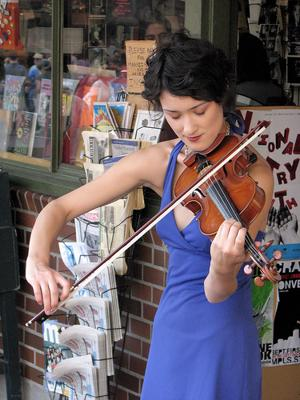person: (27, 34, 274, 400)
